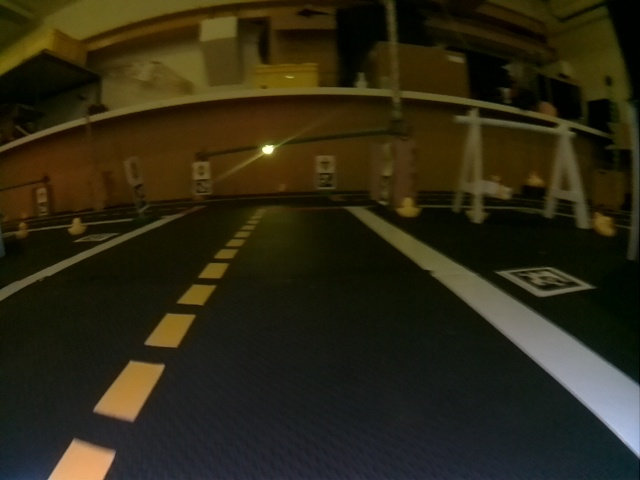Duckie: (595, 214, 616, 236), (397, 198, 418, 217), (527, 173, 545, 186), (68, 219, 84, 233), (16, 223, 27, 236)
Intersection sign: (318, 157, 333, 170)
QR code: (498, 267, 593, 297), (77, 233, 118, 242), (134, 184, 147, 208), (318, 173, 333, 188), (195, 180, 210, 193), (37, 205, 48, 216)
Traffic light: (261, 144, 276, 157)
